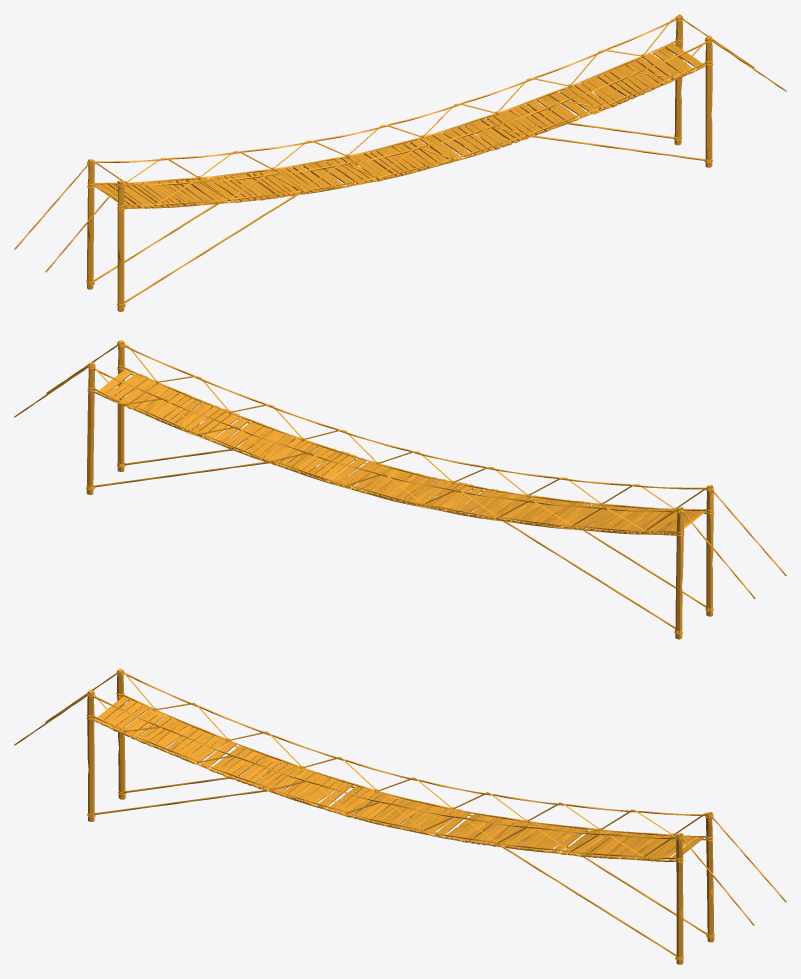
Rendered from SM_Bridge_Rope_Small_Fantasy.fbx.
The picture shows the model from 3 angles, top to bottom: view 1: azimuth 30°, elevation 25°; view 2: azimuth 150°, elevation 25°; view 3: azimuth 330°, elevation 25°; orthographic projection.
Visible parts, largest first — view 1: SM_Bridge_Rope_Small_Fantasy; view 2: SM_Bridge_Rope_Small_Fantasy; view 3: SM_Bridge_Rope_Small_Fantasy.
Part boxes in pixels (<box>): SM_Bridge_Rope_Small_Fantasy: <box>14,14,786,311</box>; SM_Bridge_Rope_Small_Fantasy: <box>14,340,786,639</box>; SM_Bridge_Rope_Small_Fantasy: <box>14,668,786,964</box>.
Size of the model in its own units: 45.1 by 7.62 by 3.67.
